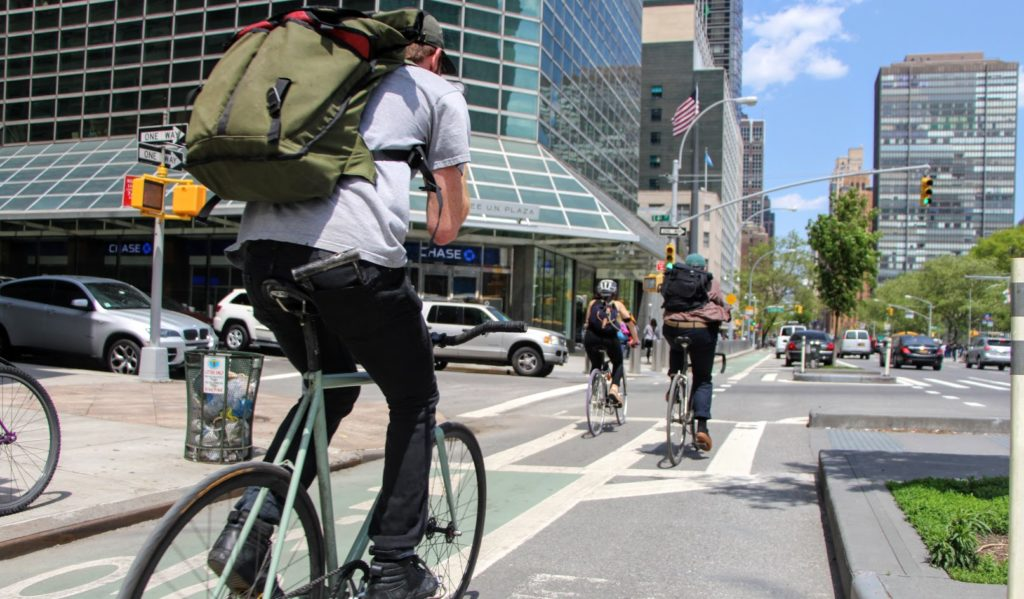commuter: (102, 2, 490, 599), (650, 254, 731, 467), (581, 279, 636, 440)
